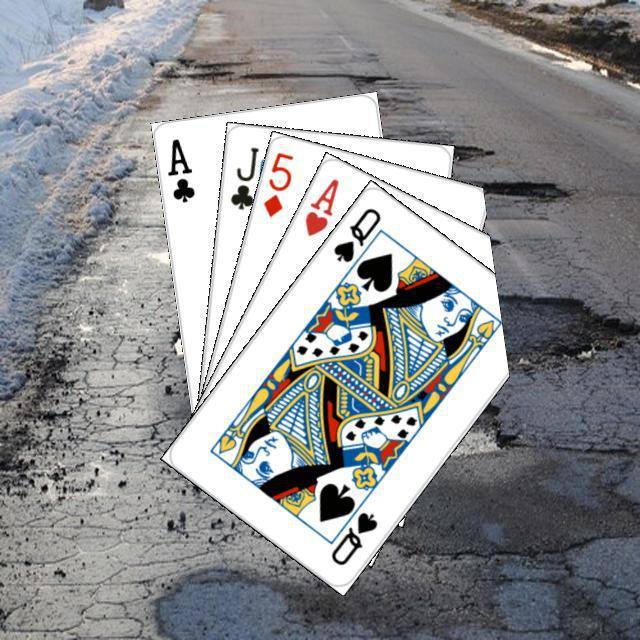5d: (258, 147, 295, 219)
Ac: (162, 133, 197, 204)
Ah: (299, 173, 340, 239)
Jc: (225, 142, 261, 211)
Qs: (328, 202, 383, 265), (326, 507, 379, 568)
